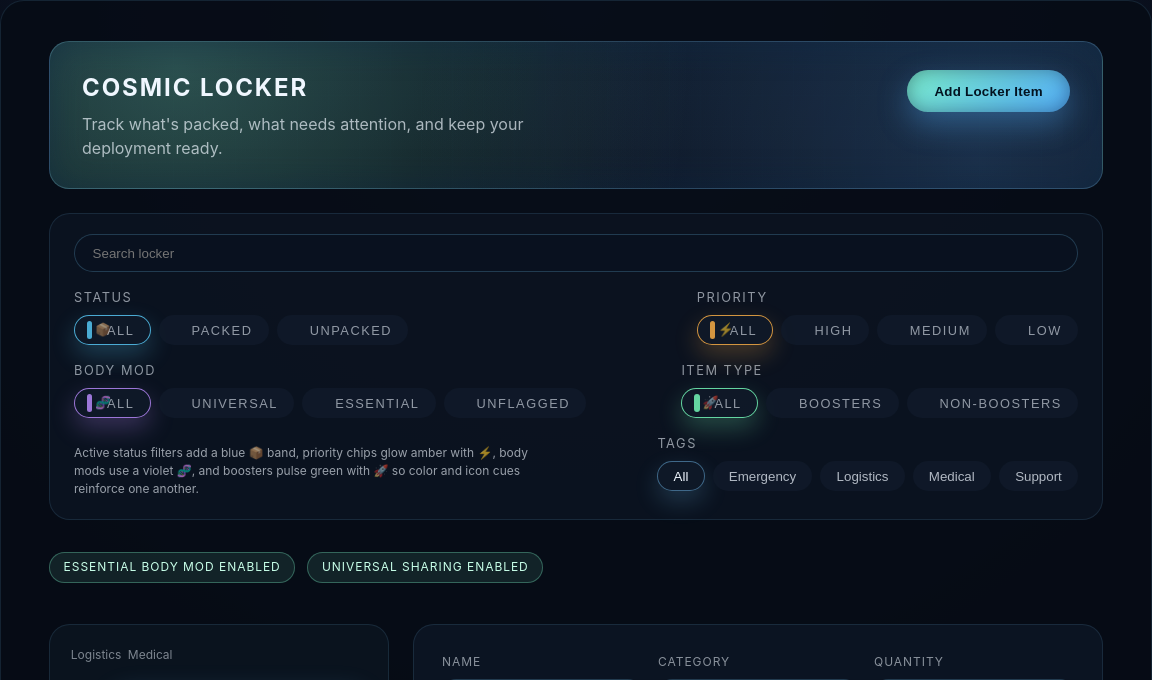
Scenario: CosmicLocker tag filtering › requires items to include all selected tags
Click the button "Support". click: [1038, 476]
box: top-left (999, 461), bottom-right (1078, 491)
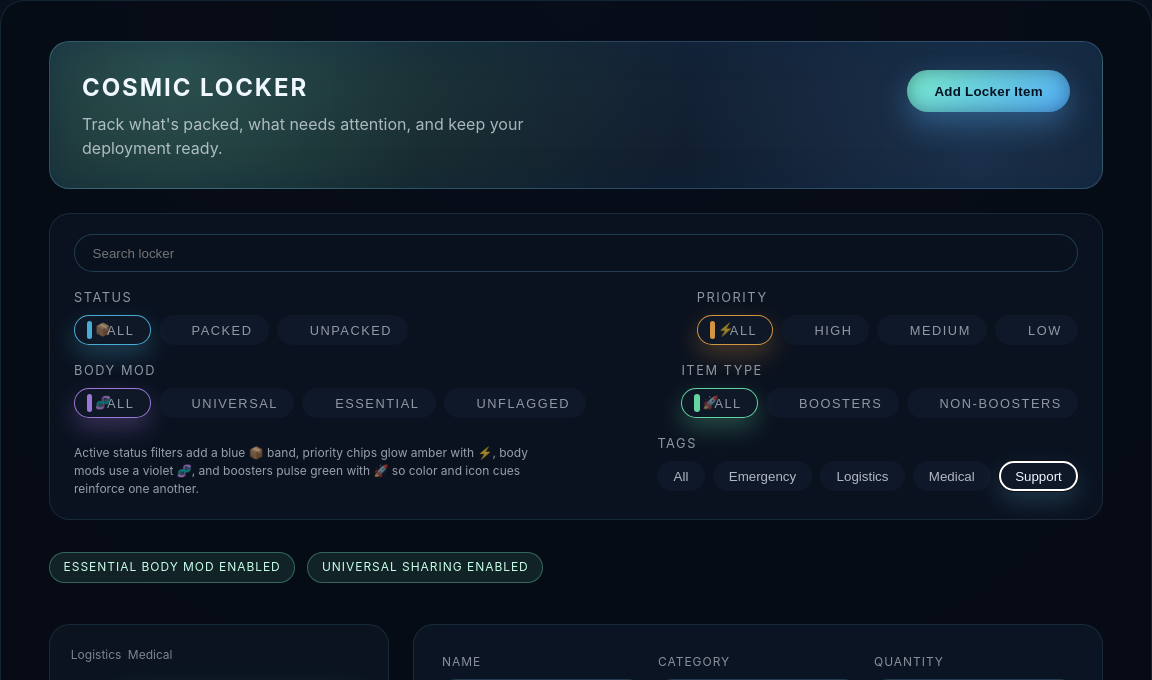
Click the button "Medical". click: [952, 476]
box: top-left (913, 461), bottom-right (991, 491)
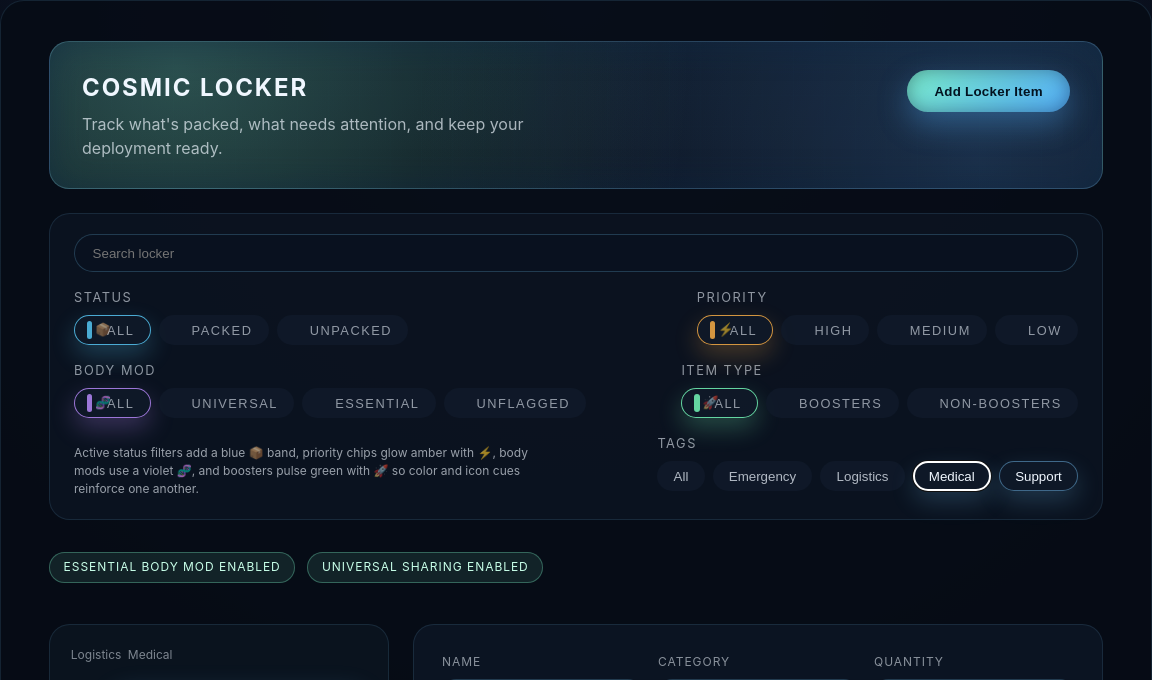
Click the button "Emergency". click: [762, 476]
box: top-left (713, 461), bottom-right (812, 491)
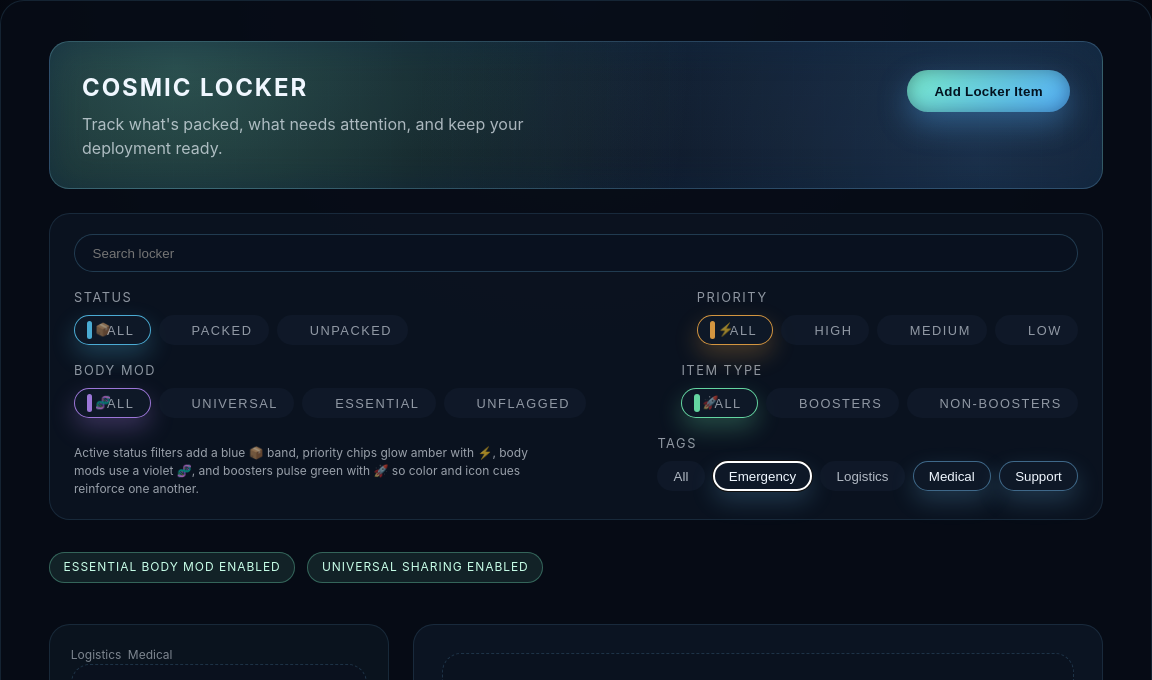
Expected: no list items are shown
Click the button "All". click: [681, 476]
box: top-left (657, 461), bottom-right (705, 491)
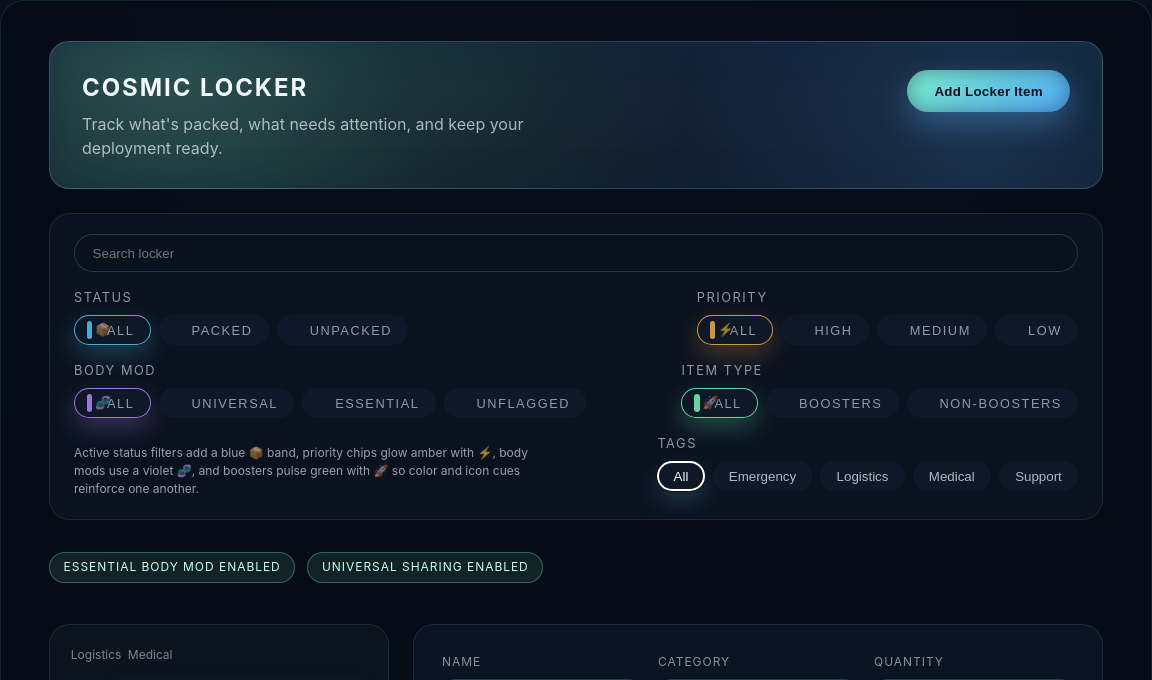
Expected: the number of list items is 3
